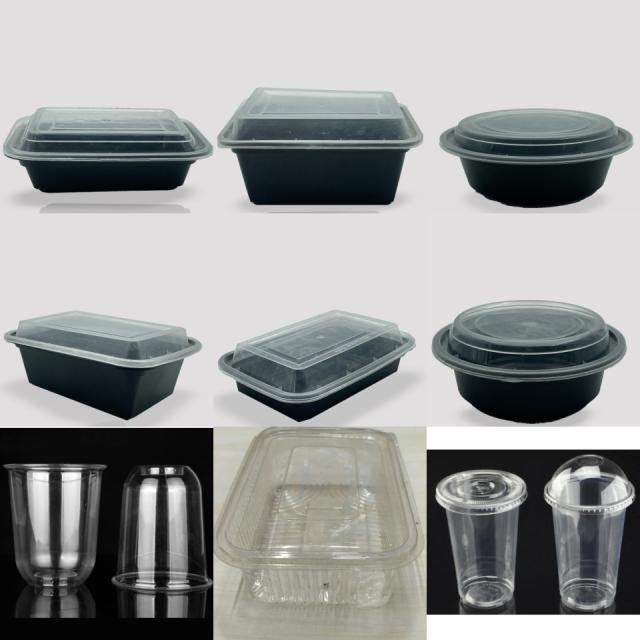Single-Use-Plastic: (215, 428, 424, 608), (218, 88, 422, 205), (432, 300, 626, 423), (220, 310, 415, 421), (4, 311, 201, 419), (440, 109, 632, 207), (4, 108, 212, 192), (4, 464, 106, 617), (111, 466, 212, 618), (544, 455, 635, 612), (435, 470, 528, 609)
